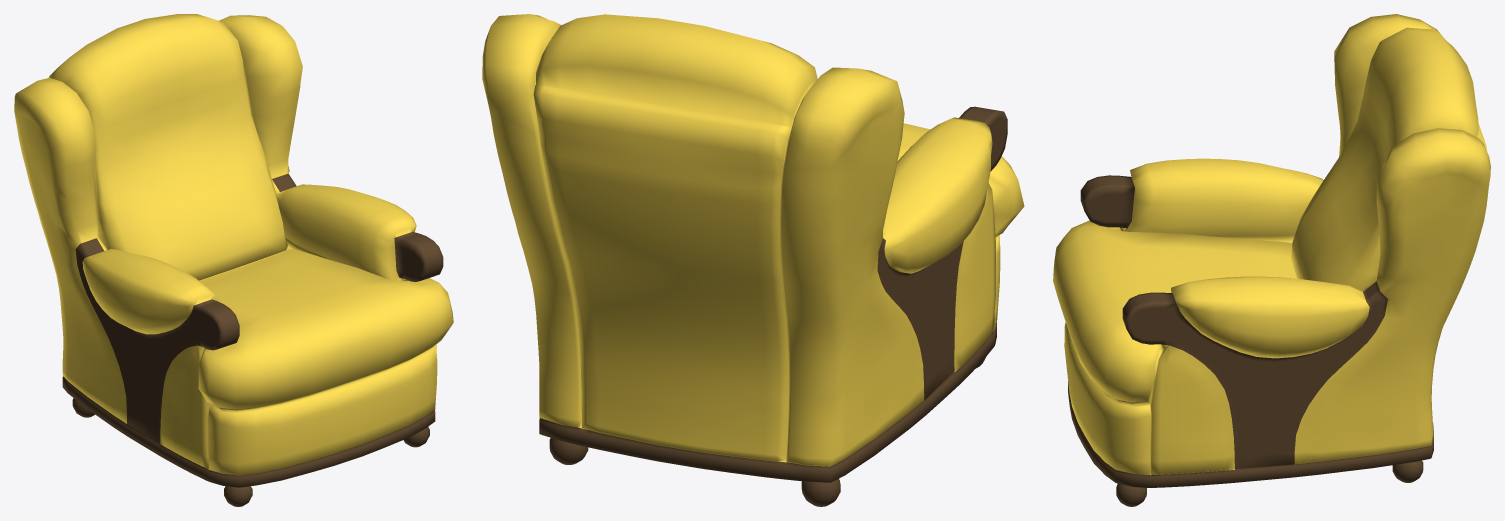
Rendered from _3dModel.fbx.
The picture shows the model from 3 angles, left to right: view 1: azimuth 30°, elevation 25°; view 2: azimuth 150°, elevation 25°; view 3: azimuth 270°, elevation 25°; orthographic projection. The views are drawn at different scales.
Parts seen in each view (by area): view 1: armchair_classic_ch_models_armchair_classic_ch_models; view 2: armchair_classic_ch_models_armchair_classic_ch_models; view 3: armchair_classic_ch_models_armchair_classic_ch_models.
Part boxes in pixels (bbox=[...]): armchair_classic_ch_models_armchair_classic_ch_models: bbox=[14, 14, 453, 506]; armchair_classic_ch_models_armchair_classic_ch_models: bbox=[482, 14, 1024, 506]; armchair_classic_ch_models_armchair_classic_ch_models: bbox=[1053, 14, 1490, 506].
Bounding box in the file's own units: 0.8573 × 0.9846 × 0.941.
